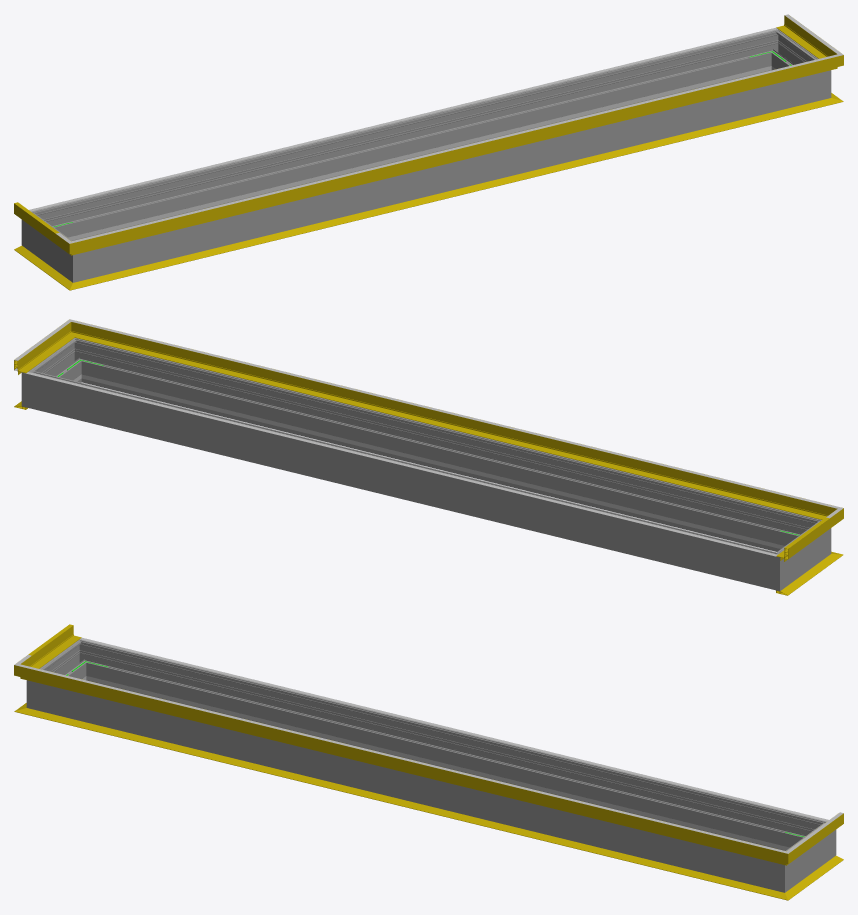
3 renders of one model, top to bottom at view 1: azimuth 30°, elevation 25°; view 2: azimuth 150°, elevation 25°; view 3: azimuth 330°, elevation 25°, orthographic.
Parts seen in each view (by area): view 1: 3DGeom-276, 3DGeom-298, 3DGeom-56, 3DGeom-28, 3DGeom-244, 3DGeom-220, 3DGeom-66, 3DGeom-270, 3DGeom-284, 3DGeom-58, 3DGeom-290, 3DGeom-268 (+2 smaller); view 2: 3DGeom-298, 3DGeom-276, 3DGeom-56, 3DGeom-239, 3DGeom-220, 3DGeom-66, 3DGeom-278, 3DGeom-284, 3DGeom-58, 3DGeom-290, 3DGeom-297, 3DGeom-268 (+2 smaller); view 3: 3DGeom-276, 3DGeom-298, 3DGeom-56, 3DGeom-28, 3DGeom-244, 3DGeom-220, 3DGeom-66, 3DGeom-290, 3DGeom-278, 3DGeom-50, 3DGeom-270, 3DGeom-297 (+2 smaller).
Boxes of the visible parts, x1=… form: 3DGeom-276: x1=48, y1=34, x2=767, y2=240; 3DGeom-298: x1=97, y1=76, x2=806, y2=276; 3DGeom-56: x1=91, y1=61, x2=819, y2=250; 3DGeom-28: x1=90, y1=102, x2=819, y2=284; 3DGeom-244: x1=77, y1=71, x2=748, y2=239; 3DGeom-220: x1=29, y1=27, x2=777, y2=211; 3DGeom-66: x1=92, y1=59, x2=819, y2=237; 3DGeom-270: x1=59, y1=237, x2=97, y2=282; 3DGeom-284: x1=758, y1=29, x2=789, y2=71; 3DGeom-58: x1=776, y1=15, x2=825, y2=57; 3DGeom-290: x1=807, y1=55, x2=831, y2=103; 3DGeom-268: x1=35, y1=220, x2=66, y2=272; 3DGeom-298: x1=85, y1=343, x2=804, y2=551; 3DGeom-276: x1=46, y1=375, x2=760, y2=585; 3DGeom-56: x1=87, y1=327, x2=817, y2=517; 3DGeom-239: x1=105, y1=380, x2=775, y2=547; 3DGeom-220: x1=26, y1=372, x2=777, y2=556; 3DGeom-66: x1=92, y1=325, x2=819, y2=503; 3DGeom-278: x1=756, y1=545, x2=793, y2=591; 3DGeom-284: x1=21, y1=363, x2=50, y2=411; 3DGeom-58: x1=14, y1=330, x2=67, y2=374; 3DGeom-290: x1=63, y1=338, x2=94, y2=383; 3DGeom-297: x1=39, y1=346, x2=79, y2=381; 3DGeom-268: x1=786, y1=528, x2=817, y2=580; 3DGeom-276: x1=90, y1=644, x2=809, y2=850; 3DGeom-298: x1=51, y1=686, x2=760, y2=886; 3DGeom-56: x1=38, y1=671, x2=766, y2=860; 3DGeom-28: x1=38, y1=712, x2=767, y2=894; 3DGeom-244: x1=109, y1=681, x2=780, y2=849; 3DGeom-220: x1=80, y1=637, x2=828, y2=821; 3DGeom-66: x1=38, y1=669, x2=765, y2=847; 3DGeom-290: x1=760, y1=847, x2=798, y2=892; 3DGeom-278: x1=68, y1=639, x2=99, y2=681; 3DGeom-50: x1=32, y1=625, x2=81, y2=667; 3DGeom-270: x1=26, y1=665, x2=50, y2=713; 3DGeom-297: x1=791, y1=830, x2=822, y2=882.
Size of the model in its own units: 4.88 by 0.2831 by 0.6096.
